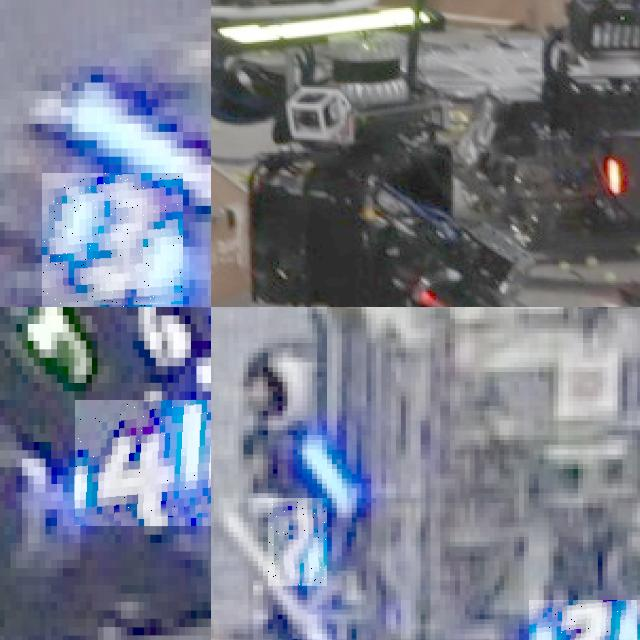B2: (268, 498, 327, 586), (528, 599, 637, 640)
B3: (41, 172, 183, 307)
B4: (74, 399, 211, 526)
